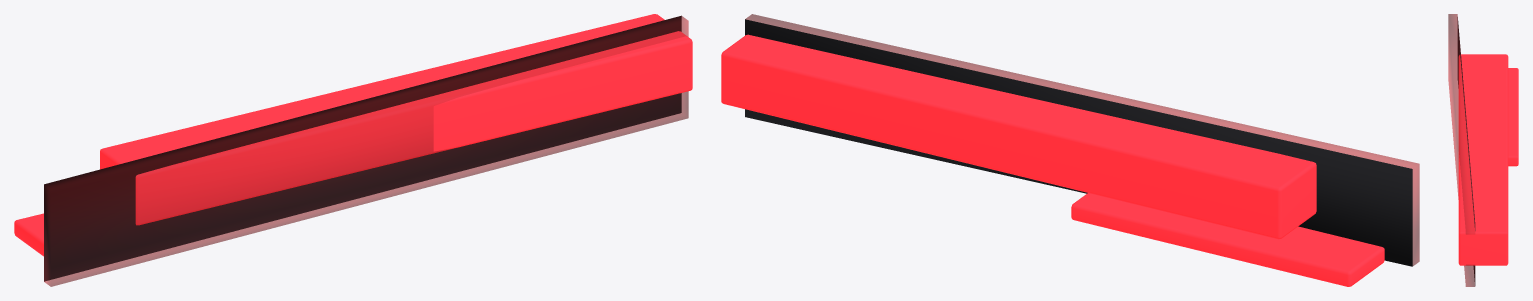
Rendered from GEO_Taillight_Right.glb.
3 views of the same model, side by side, from view 1: azimuth 30°, elevation 25°; view 2: azimuth 150°, elevation 25°; view 3: azimuth 270°, elevation 25° (orthographic). The views are drawn at different scales.
Parts seen in each view (by area): view 1: GEO_Taillight_Right; view 2: GEO_Taillight_Right; view 3: GEO_Taillight_Right.
Part boxes in pixels (box(x1,y1,x2,y2)): GEO_Taillight_Right: box(14, 14, 692, 286); GEO_Taillight_Right: box(721, 14, 1419, 286); GEO_Taillight_Right: box(1448, 14, 1518, 286).
Size of the model in its own units: 0.42 by 0.06 by 0.06.
